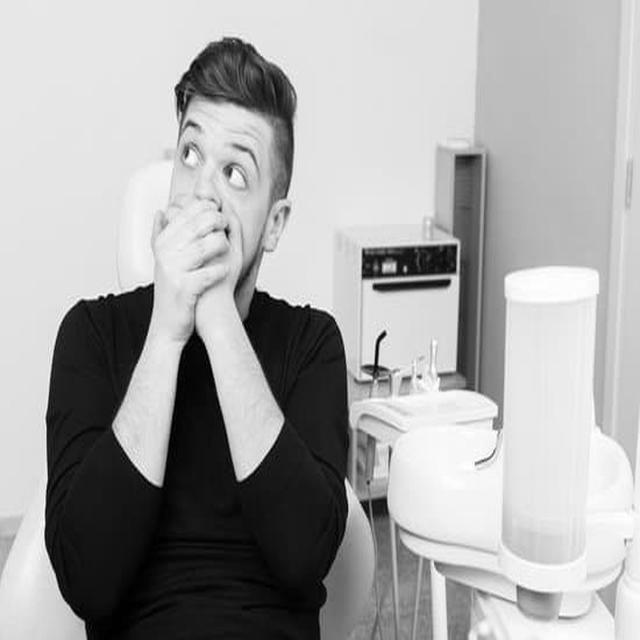Fear: (168, 97, 266, 293)
